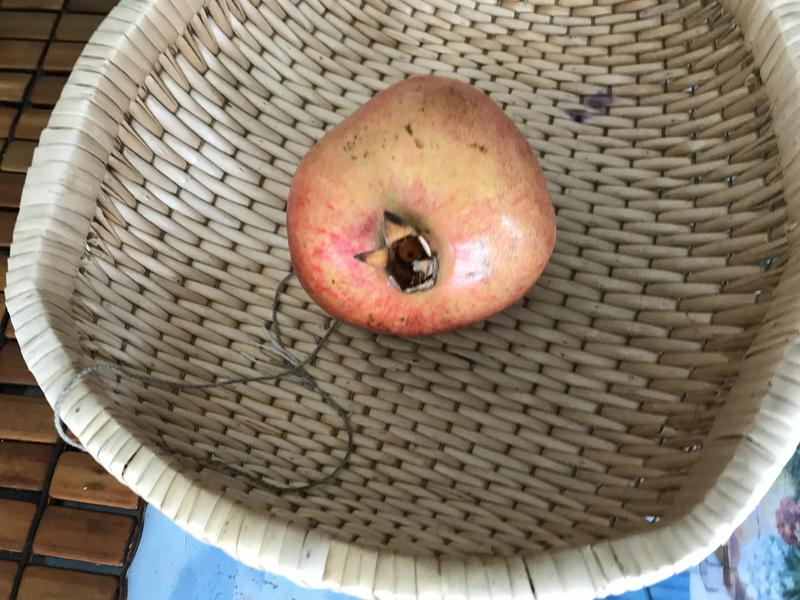pomegranate: (279, 74, 569, 341)
